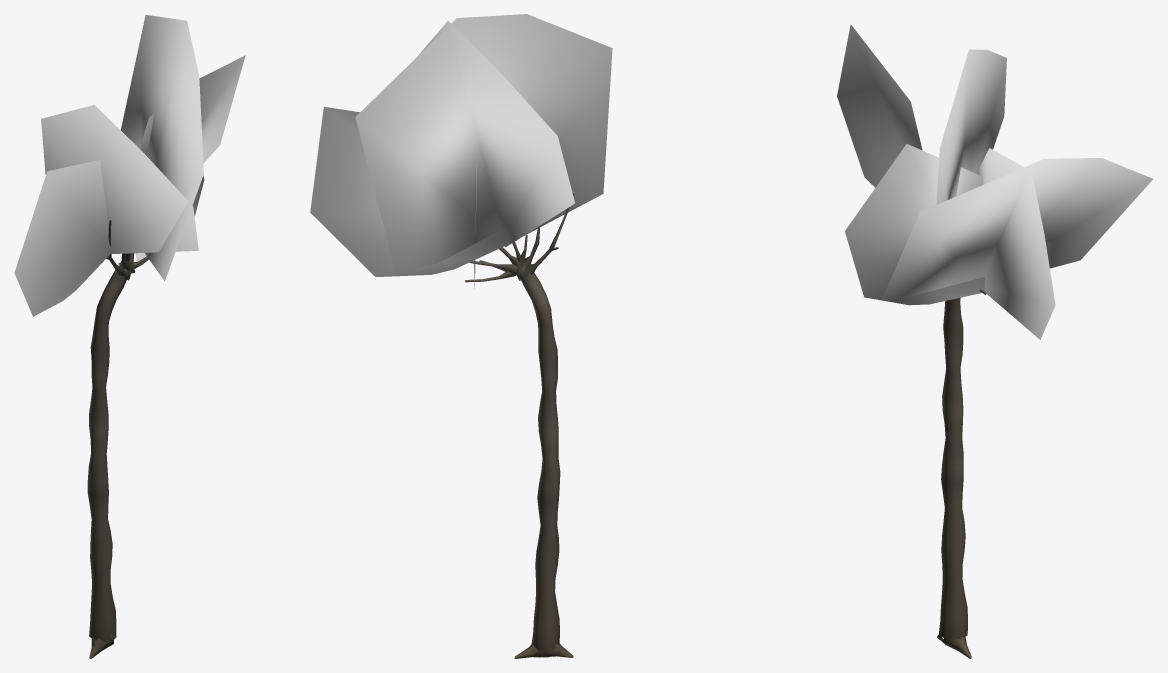
File: slender_8.glb
The picture shows the model from 3 angles, left to right: view 1: azimuth 30°, elevation 25°; view 2: azimuth 150°, elevation 25°; view 3: azimuth 270°, elevation 25°; orthographic projection. The views are drawn at different scales.
Visible parts, largest first — view 1: slender_8; view 2: slender_8; view 3: slender_8.
Boxes of the visible parts, bbox=[...] form: slender_8: bbox=[14, 15, 245, 658]; slender_8: bbox=[310, 14, 612, 658]; slender_8: bbox=[837, 24, 1152, 658].
Size of the model in its own units: 4.41 by 7.94 by 4.21.
